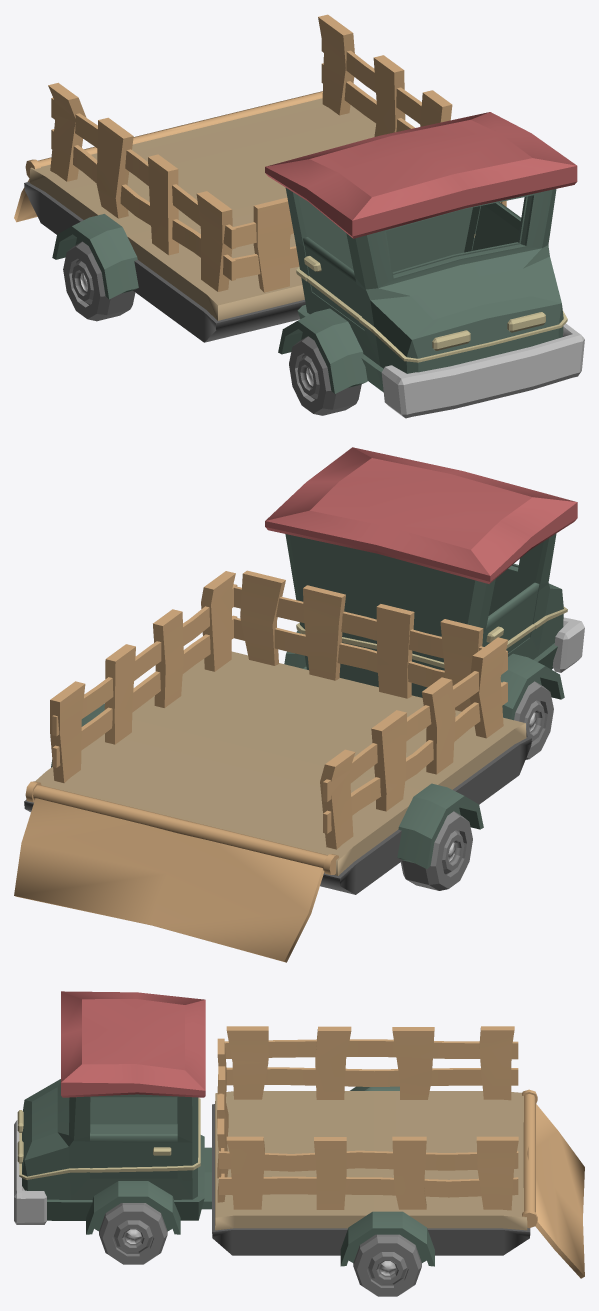
The model's file is Camion.fbx.
3 views of the same model, one above another, from view 1: azimuth 30°, elevation 25°; view 2: azimuth 150°, elevation 25°; view 3: azimuth 270°, elevation 25° (orthographic). The views are drawn at different scales.
Parts seen in each view (by area): view 1: CAMION; view 2: CAMION; view 3: CAMION.
Boxes of the visible parts, x1=… form: CAMION: x1=14, y1=14, x2=584, y2=418; CAMION: x1=14, y1=447, x2=584, y2=962; CAMION: x1=14, y1=991, x2=584, y2=1296.
Size of the model in its own units: 22.38 by 13.33 by 35.33.
